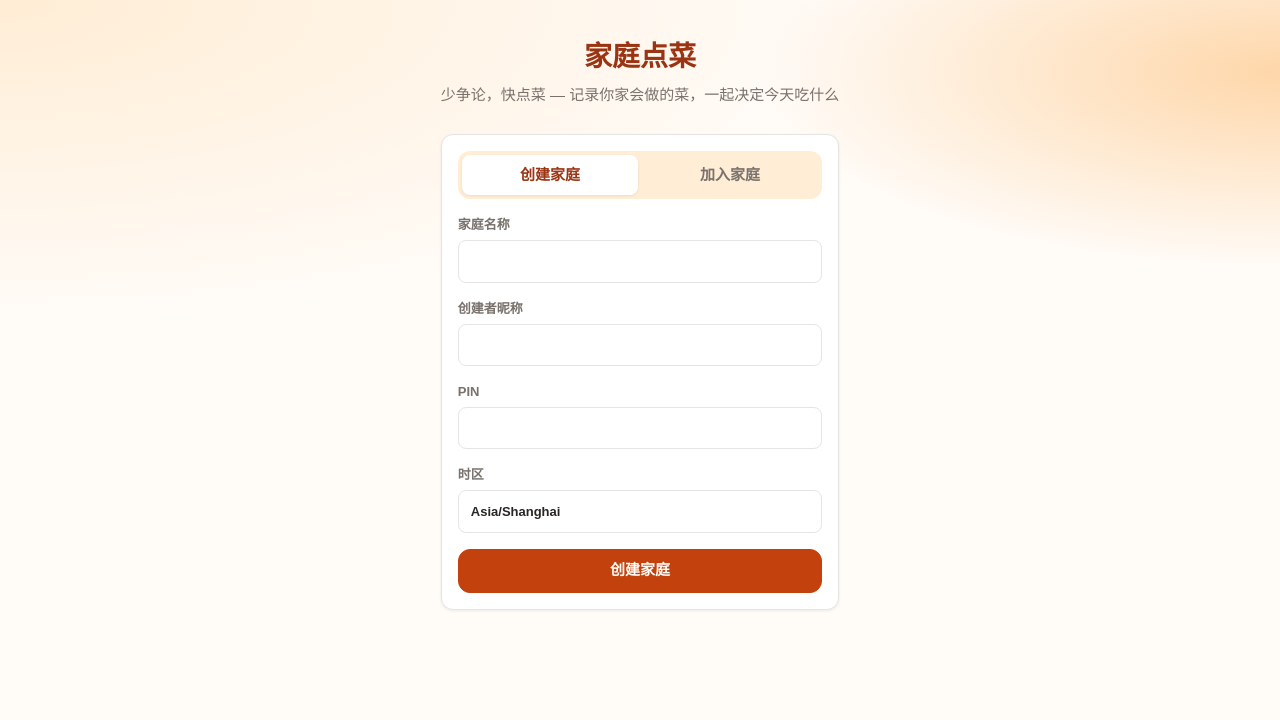
Test case: OnboardingPage › offers separate create and join forms
Check: the field labelled "家庭名称" is shown, box top-left (458, 240), bottom-right (822, 283)
Check: the field labelled "创建者昵称" is shown, box top-left (458, 324), bottom-right (822, 366)
Click the button "加入家庭".
click(730, 175)  # box top-left (642, 155), bottom-right (818, 195)
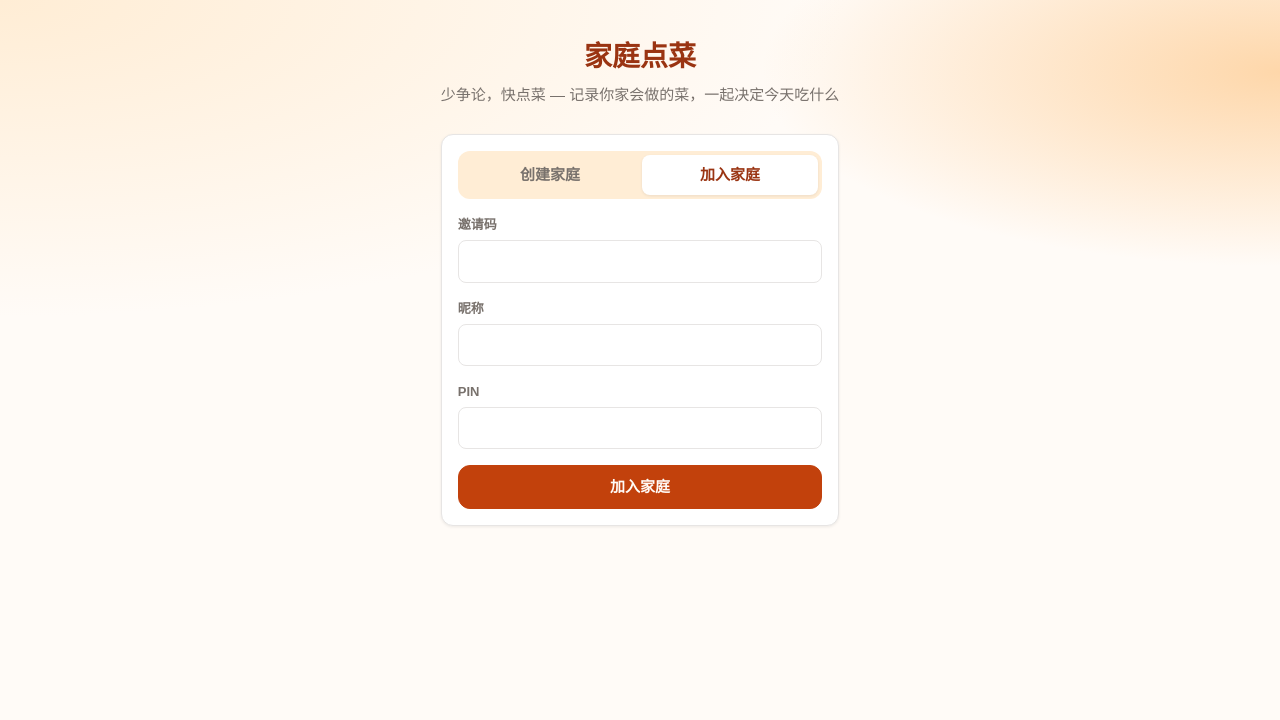
Check: the field labelled "邀请码" is shown, box top-left (458, 240), bottom-right (822, 283)
Check: the button "加入家庭" below "PIN" is shown, box top-left (458, 465), bottom-right (822, 509)
